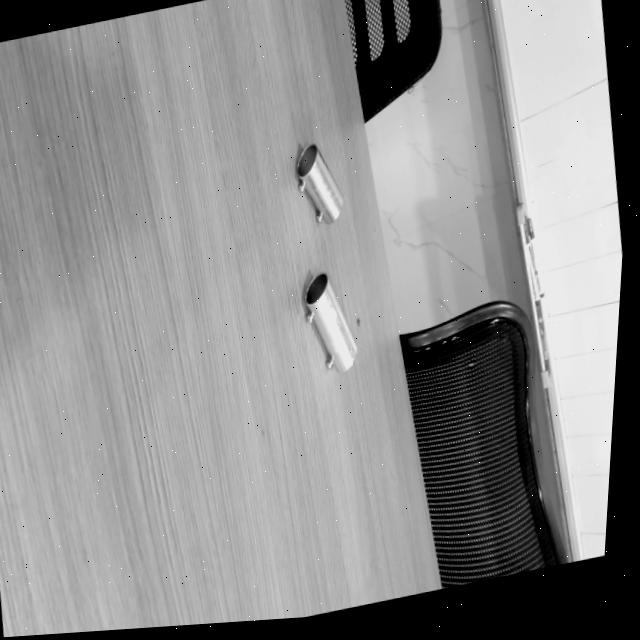Co_Lon: (293, 271, 365, 376)
Co_Nho: (283, 142, 352, 229)
